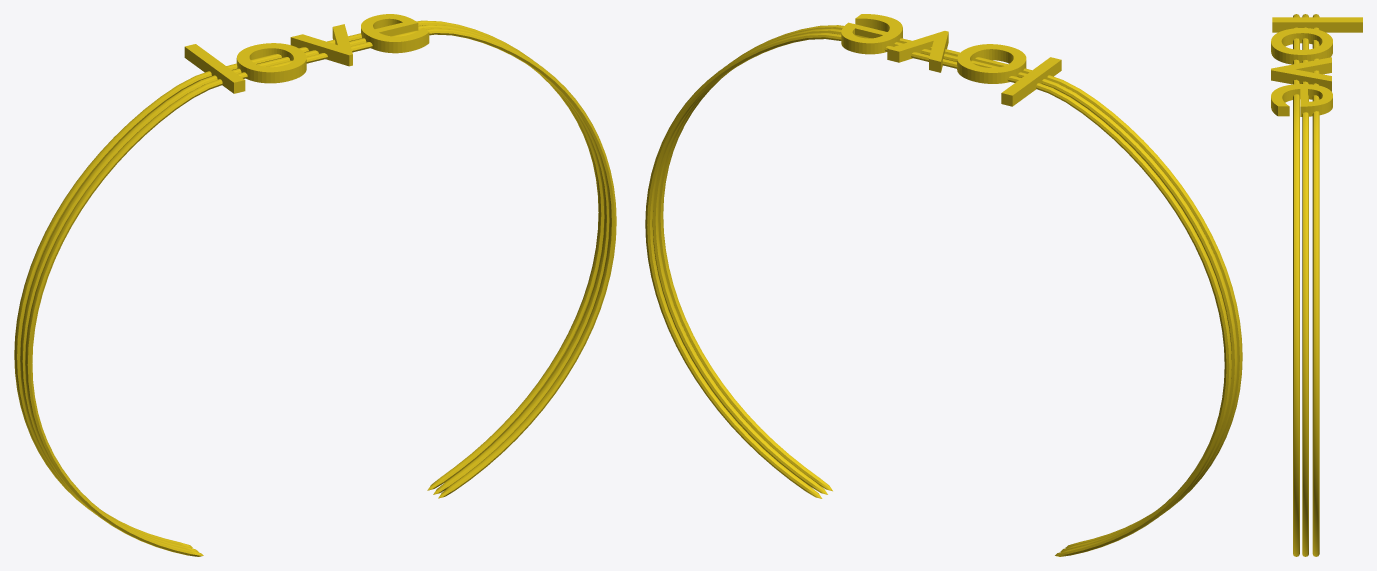
Rendered from bracelet-2.glb.
3 renders of one model, left to right at view 1: azimuth 30°, elevation 25°; view 2: azimuth 150°, elevation 25°; view 3: azimuth 270°, elevation 25°, orthographic. The views are drawn at different scales.
Parts seen in each view (by area): view 1: model; view 2: model; view 3: model.
Boxes of the visible parts, x1=… form: model: x1=14, y1=14, x2=616, y2=556; model: x1=645, y1=14, x2=1242, y2=556; model: x1=1271, y1=14, x2=1362, y2=556.
Size of the model in its own units: 0.1012 by 0.0783 by 0.0149.
